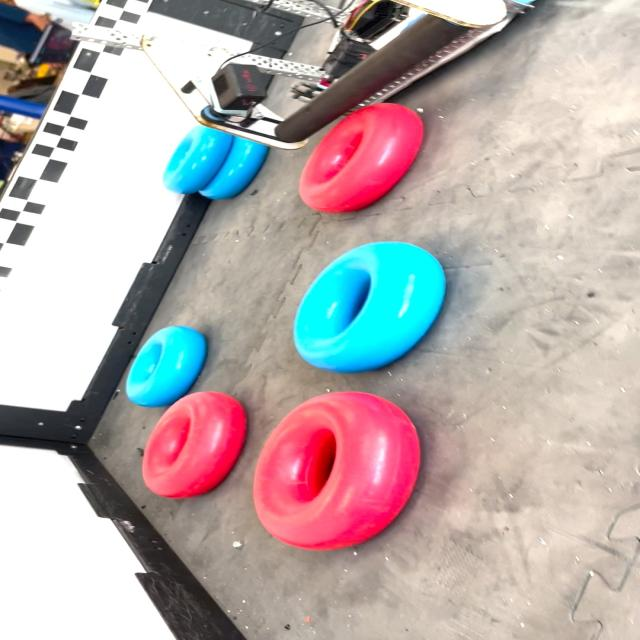Blue-Ring: (293, 241, 444, 372), (127, 326, 207, 408), (162, 125, 233, 194), (200, 136, 269, 199)
Red-Ring: (253, 391, 420, 550), (300, 102, 422, 212), (142, 391, 247, 499)
